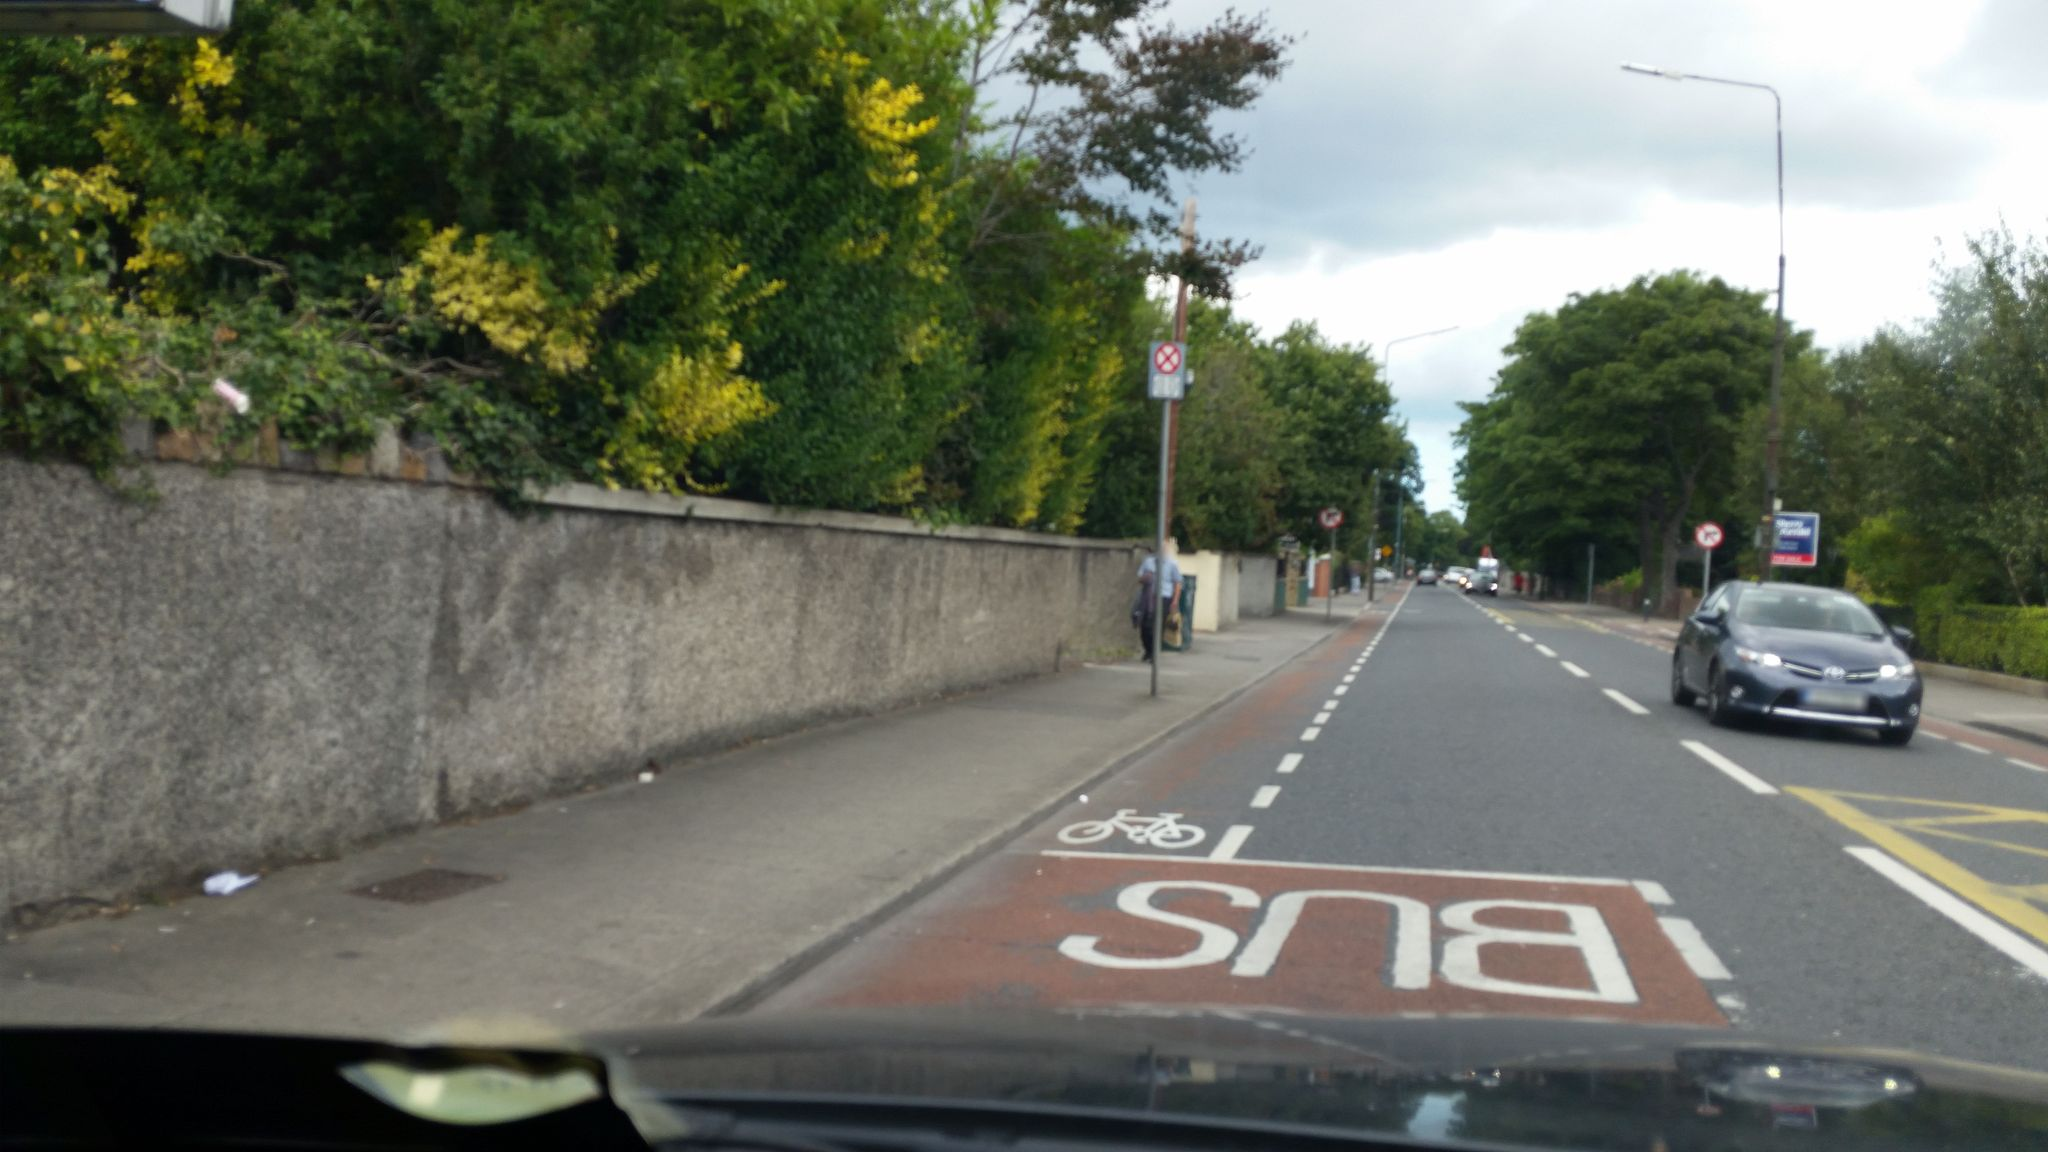property sign: (1761, 498, 1824, 572)
